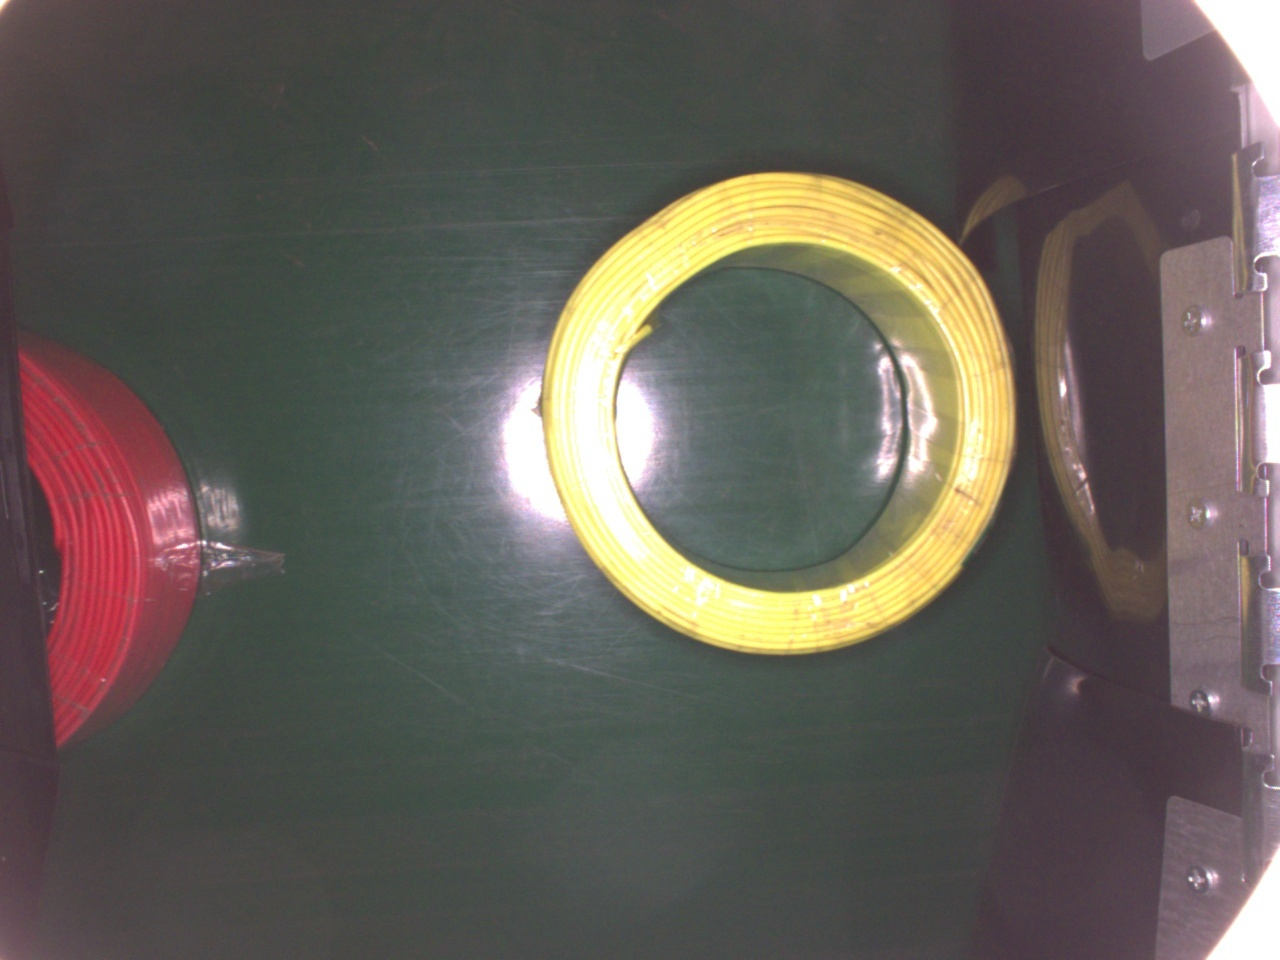red: (11, 330, 203, 747)
yellow: (534, 166, 1017, 653)
